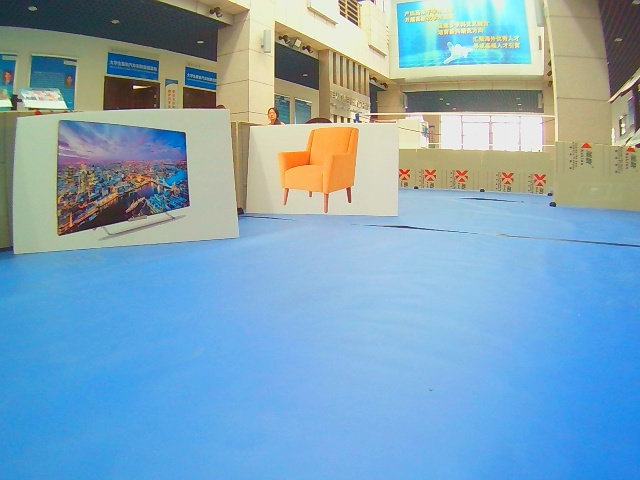sofa: (247, 122, 399, 218)
tv: (11, 108, 240, 253)
